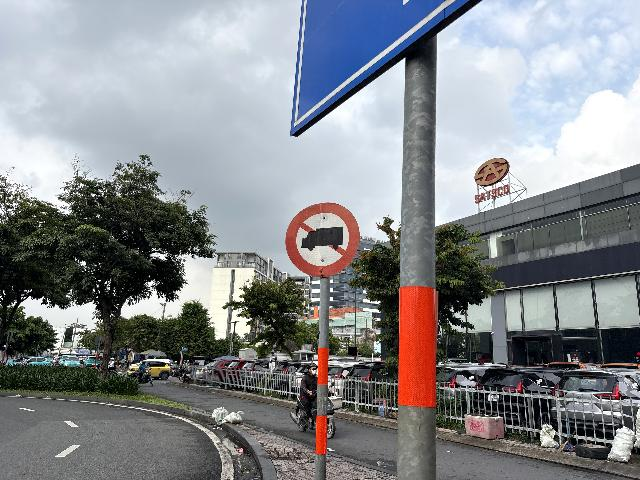cam-xe-tai: (285, 202, 360, 278)
